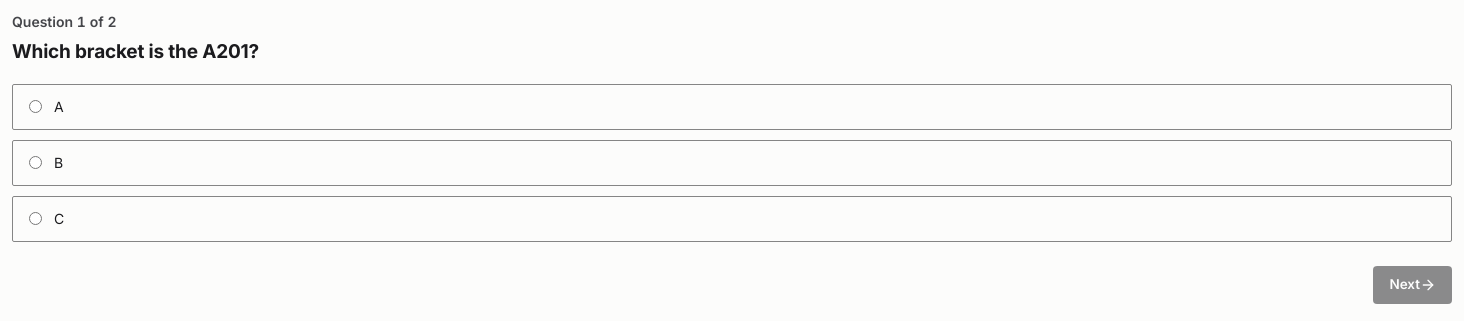
Test: QuizForm interaction model › starts on Q1 with no Back, and the primary disabled until a pick
Expected: the text "Question 1 of 2" is shown, [12,13,116,30]
Expected: the button "Next" is disabled, [1373,266,1452,304]
Click the radio button labelled "A" at (36, 107), box [29,100,42,113]
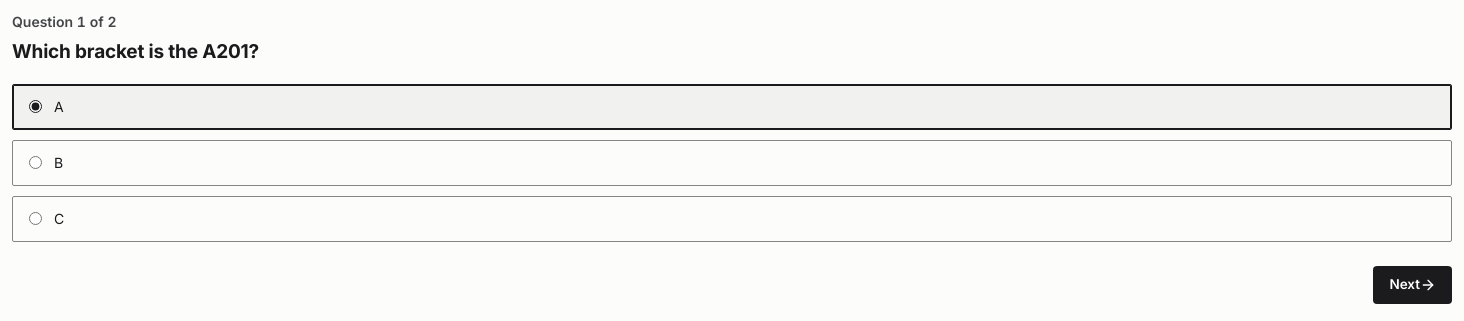
Now the button "Next" is enabled, box [1373,266,1452,304]
